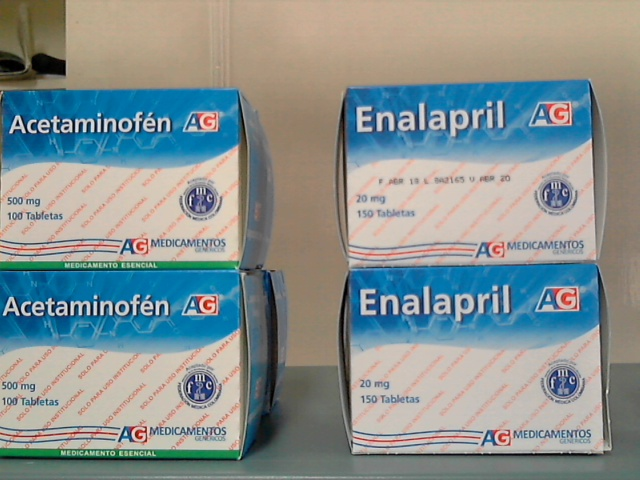AG: (350, 269, 601, 453), (1, 272, 241, 459), (347, 83, 595, 262), (1, 88, 236, 268)
